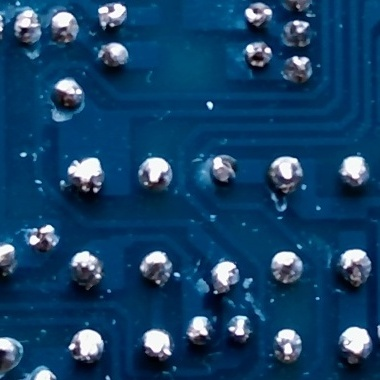?: (65, 157, 104, 196), (208, 155, 239, 187), (25, 224, 61, 251), (283, 55, 314, 83), (95, 4, 129, 29), (284, 19, 313, 46)
drag: (338, 247, 373, 286), (0, 241, 18, 276), (29, 367, 61, 380)
little: (242, 0, 273, 26), (246, 40, 274, 68), (0, 9, 3, 43)
norm: (71, 326, 106, 366), (69, 249, 103, 288), (340, 324, 370, 366), (138, 157, 174, 191), (273, 326, 303, 365), (141, 249, 173, 285), (272, 250, 304, 286), (269, 156, 302, 190), (13, 7, 41, 46), (182, 314, 215, 345), (141, 328, 172, 360), (52, 78, 85, 108), (340, 155, 370, 188), (98, 41, 133, 69), (50, 9, 78, 43), (227, 316, 254, 344), (0, 336, 21, 370), (281, 0, 315, 13), (377, 317, 380, 346)
tip: (212, 259, 241, 296)
